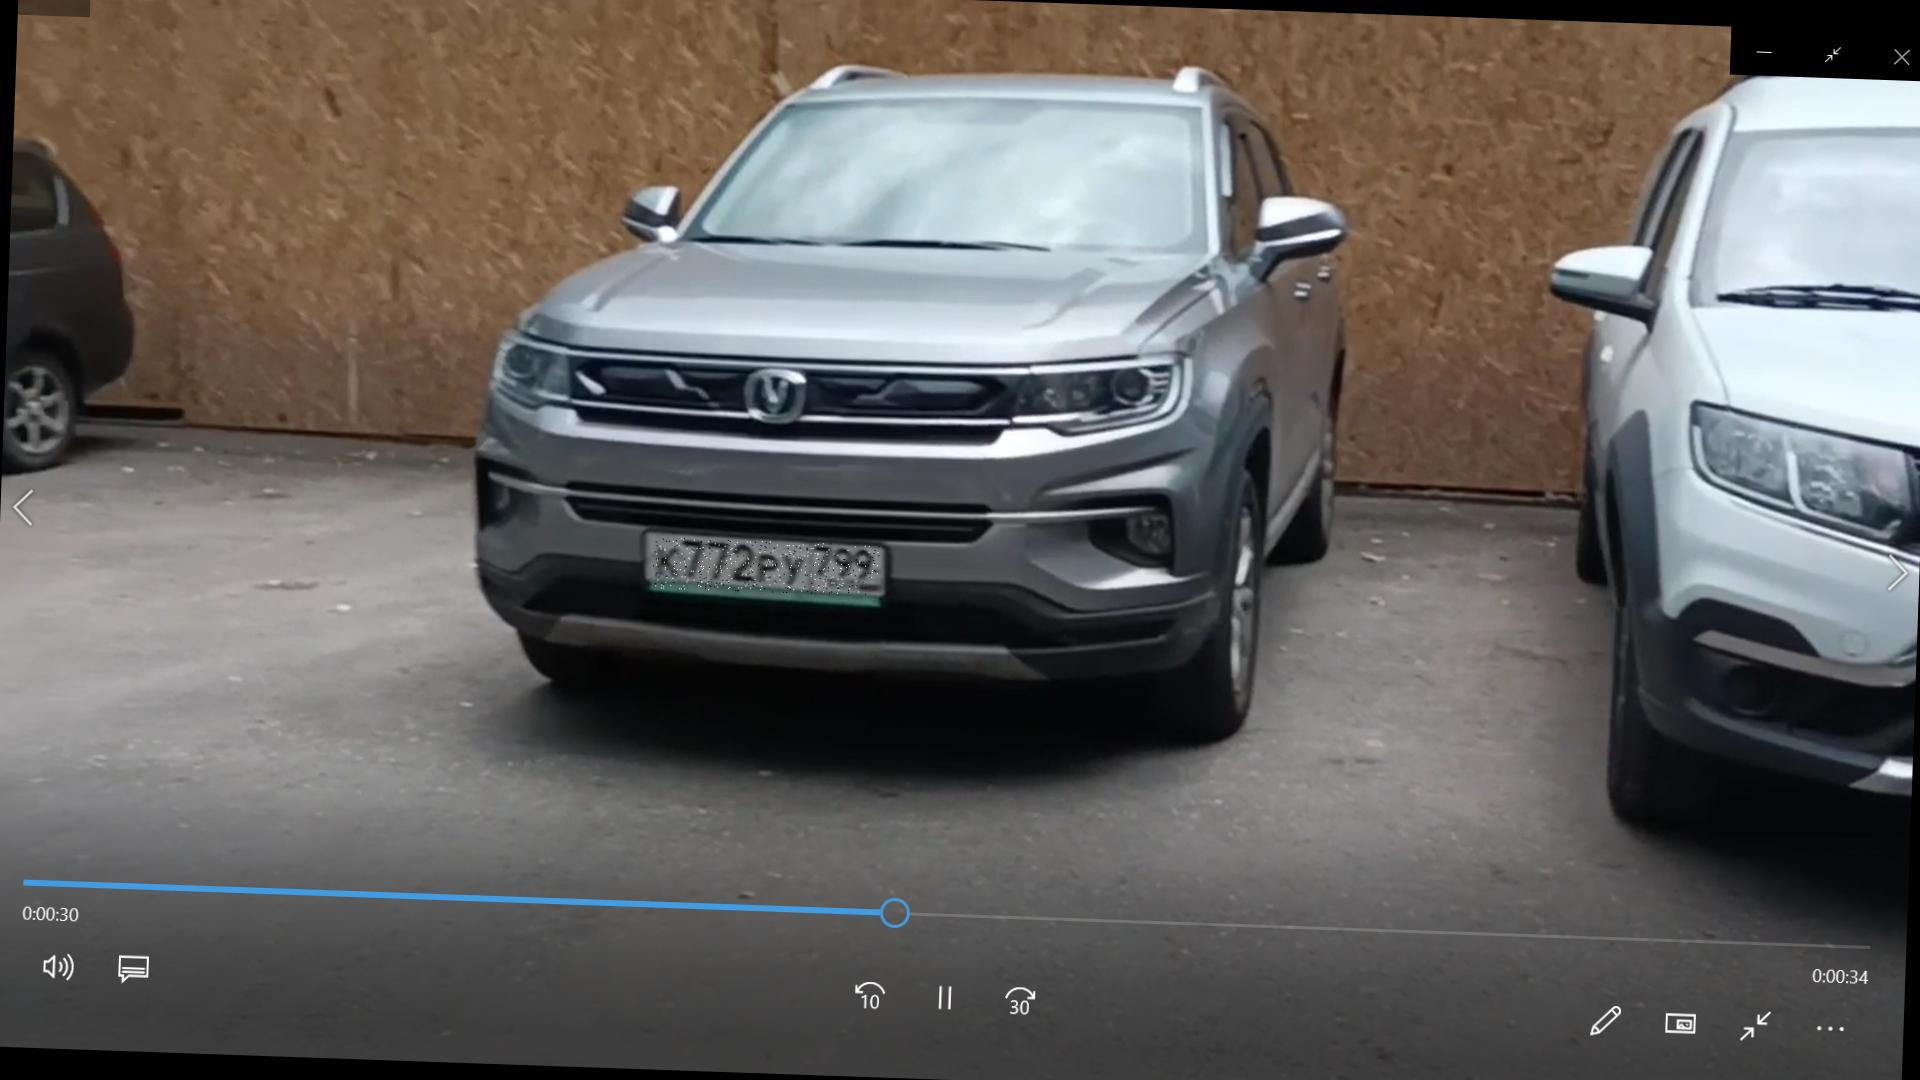plate: (654, 539, 882, 598)
